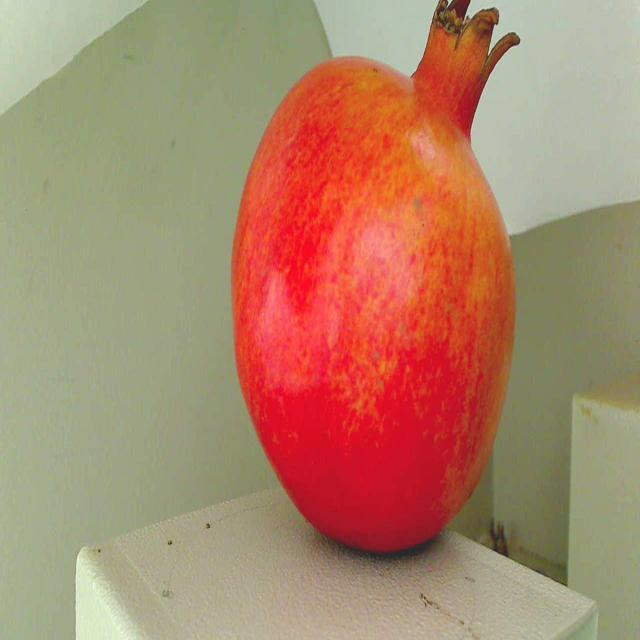pomegranate: (222, 0, 530, 570)
